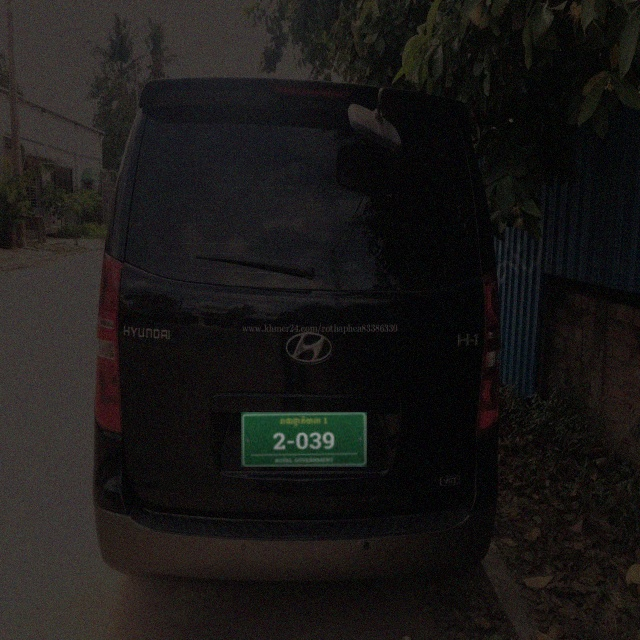Plate Number: (241, 412, 368, 467)
